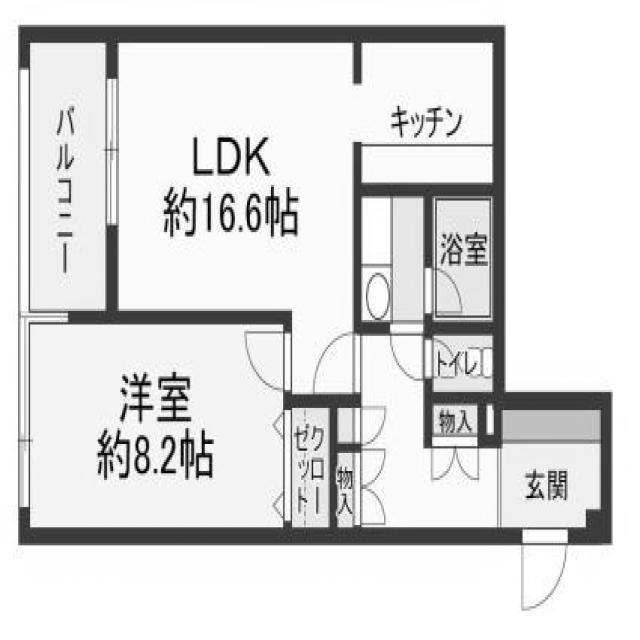wall: (19, 26, 506, 43), (18, 530, 524, 544), (492, 27, 506, 407), (68, 309, 292, 324), (423, 393, 611, 410), (352, 143, 362, 333), (353, 184, 506, 196), (600, 394, 612, 544), (477, 394, 504, 447), (105, 226, 118, 323), (424, 322, 506, 335), (330, 394, 337, 542), (422, 185, 434, 268), (283, 394, 362, 406), (585, 509, 612, 544), (105, 27, 119, 80), (568, 528, 612, 544), (423, 379, 432, 446), (352, 27, 362, 82), (18, 27, 31, 69), (354, 324, 392, 336), (18, 506, 30, 542), (328, 442, 364, 450), (424, 314, 432, 339), (283, 310, 290, 334)
